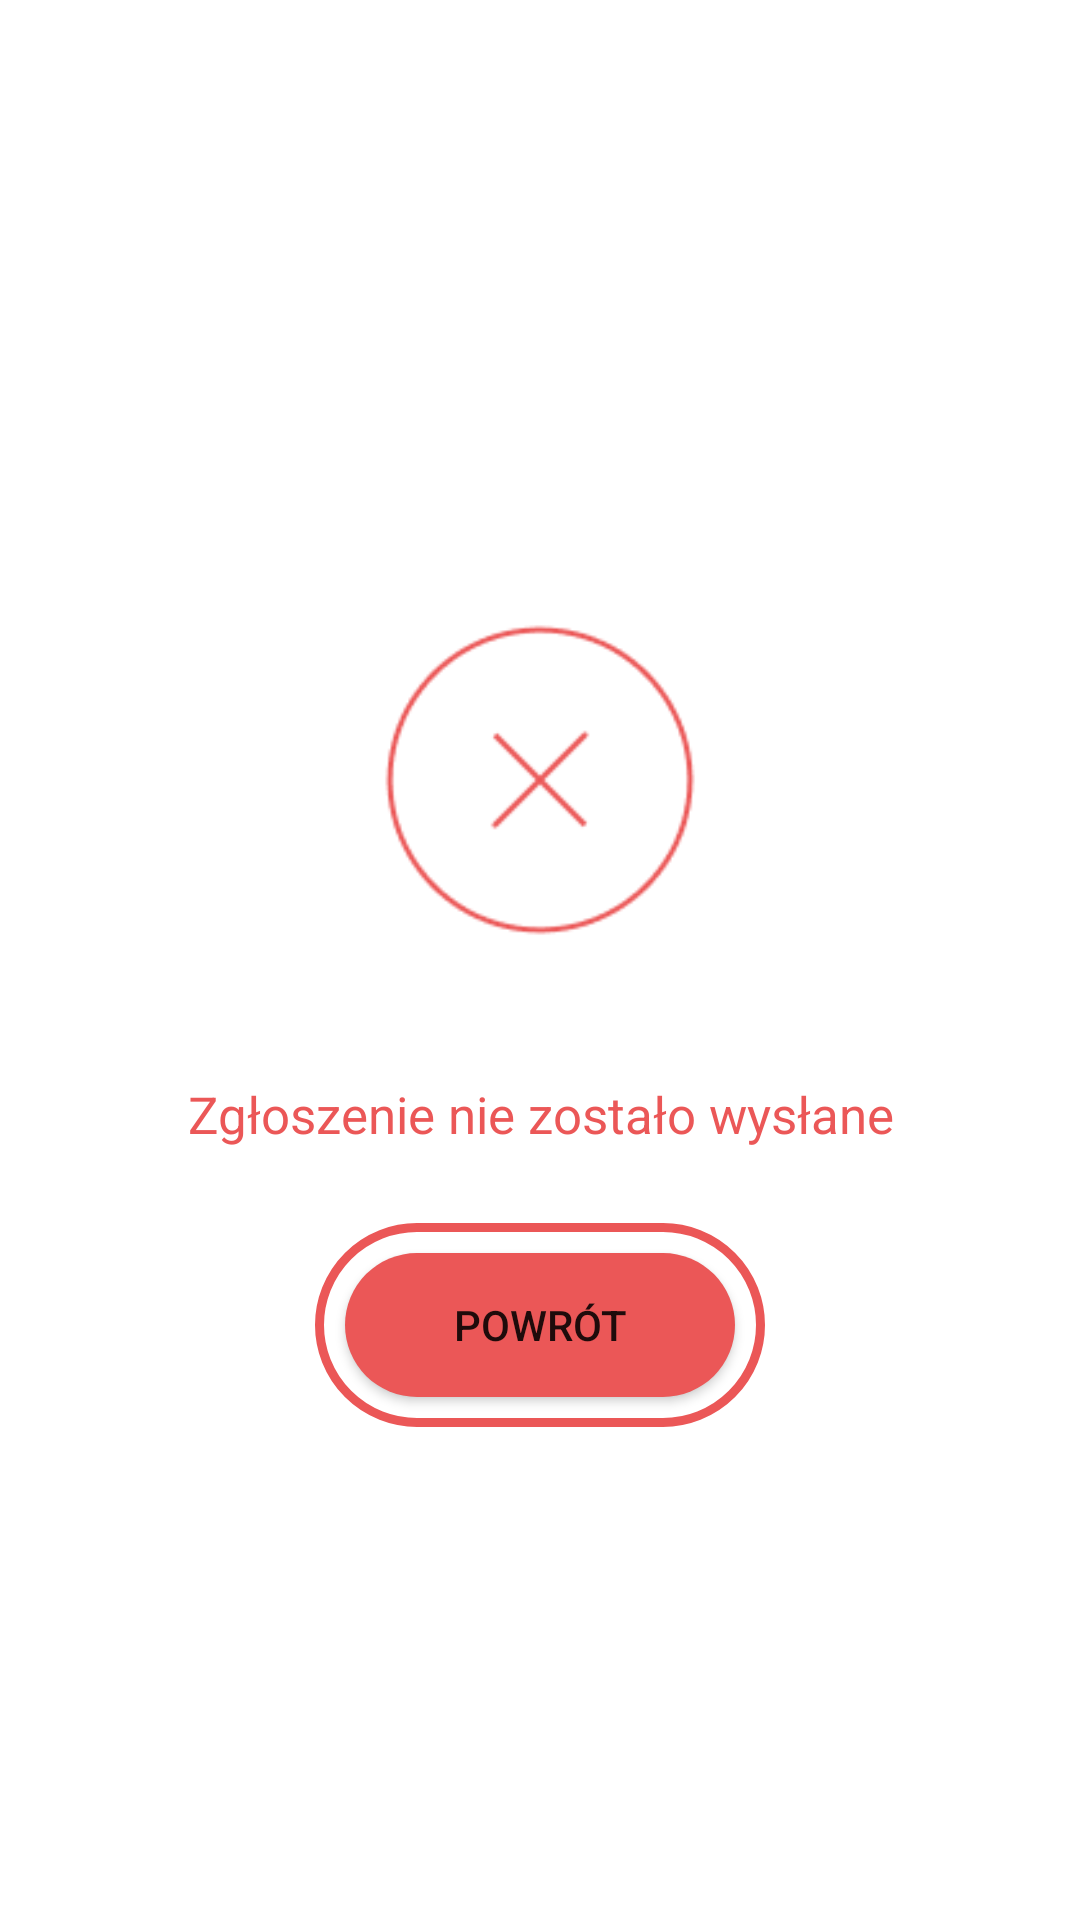

Screen size 1080px×1920px. Icon name, then its center in pixels as [x,y]:
error: [540,780]
